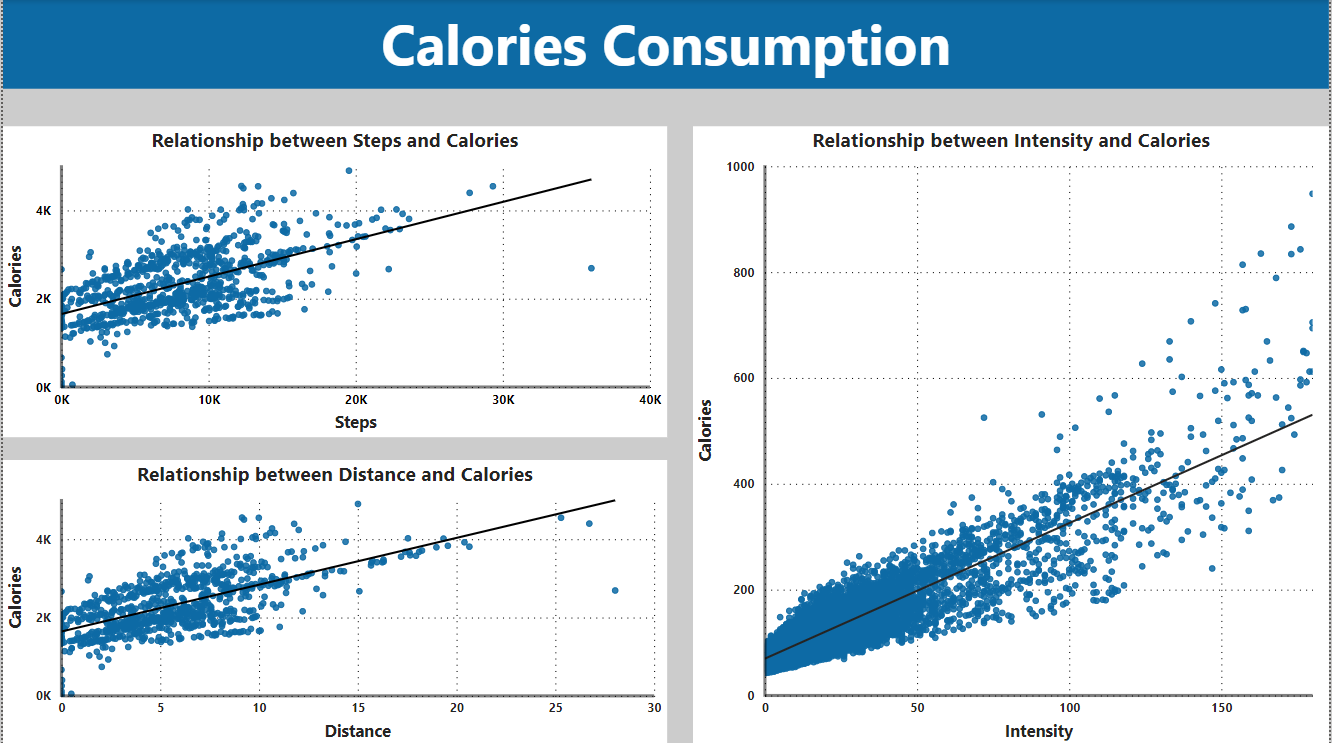

Layout of this report page (visuals, bound fields, positions):
{"tool":"powerbi","page":{"name":"Calories Consumption","canvas":[1280,720],"ordinal":1},"visuals":[{"type":"scatterChart","title":"Relationship between Steps and Calories","fields":{"X":["daily_activity.TotalSteps"],"Y":["daily_activity.Calories"]},"box":[0,121.8,640.4,300.3],"z":0},{"type":"scatterChart","title":"Relationship between Distance and Calories","fields":{"X":["daily_activity.TotalDistance"],"Y":["daily_activity.Calories"]},"box":[0,443.8,640.4,276.2],"z":1000},{"type":"scatterChart","title":"Relationship between Intensity and Calories","fields":{"X":["Sum(hourlyIntensities_merged.TotalIntensity)"],"Y":["Sum(hourlyCalories_merged.Calories)"]},"box":[665.7,121.8,613.9,598.2],"z":2000},{"type":"textbox","box":[0,0,1279.6,85.6],"z":3000}]}

Visuals, with their boxes in screenshot pixels (x1, y1, x2, y2), scaled from the page's 1280x720 canvas onto the 1332x743 screenshot:
"Relationship between Steps and Calories" scatterChart: (0, 126, 666, 436)
"Relationship between Distance and Calories" scatterChart: (0, 458, 666, 742)
"Relationship between Intensity and Calories" scatterChart: (693, 126, 1331, 742)
textbox: (0, 0, 1331, 88)
